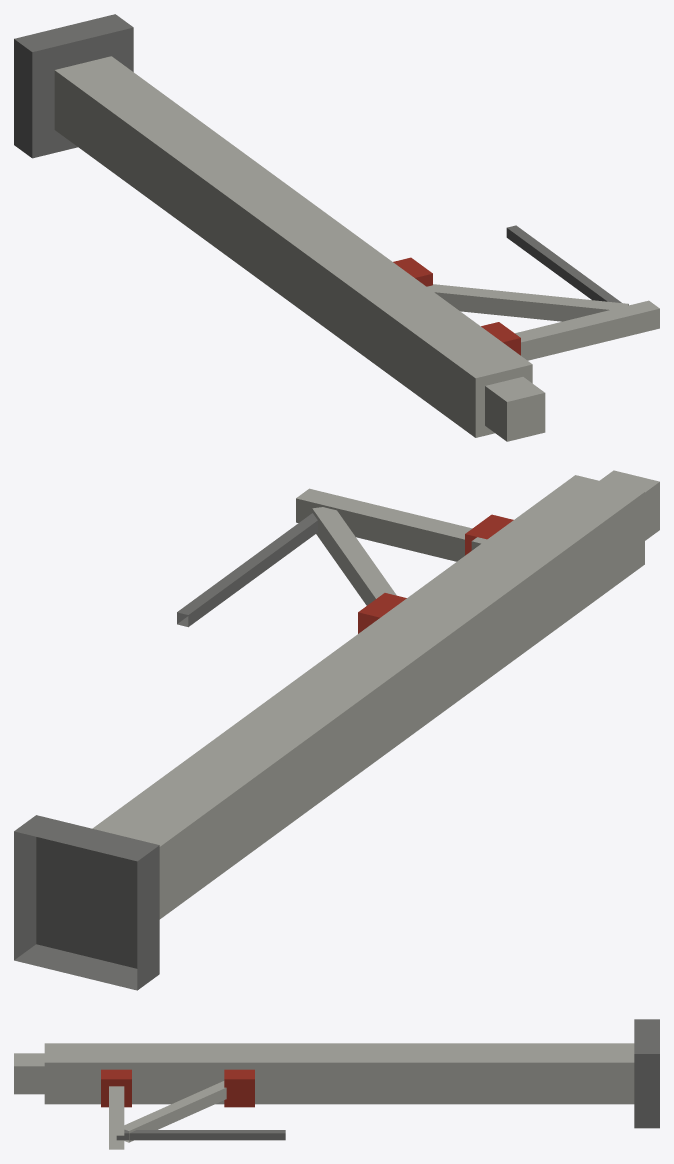
Rendered from pylon_diagonal.glb.
3 views of the same model, one above another, from view 1: azimuth 30°, elevation 25°; view 2: azimuth 150°, elevation 25°; view 3: azimuth 270°, elevation 25° (orthographic). The views are drawn at different scales.
Parts seen in each view (by area): view 1: catenary_pylon_diagonal; view 2: catenary_pylon_diagonal; view 3: catenary_pylon_diagonal.
Boxes of the visible parts, left/top/right/bottom form: catenary_pylon_diagonal: left=14, top=14, right=659, bottom=441; catenary_pylon_diagonal: left=14, top=470, right=659, bottom=990; catenary_pylon_diagonal: left=14, top=1019, right=659, bottom=1149.
Size of the model in its own units: 3.98 by 1.6 by 12.6.
